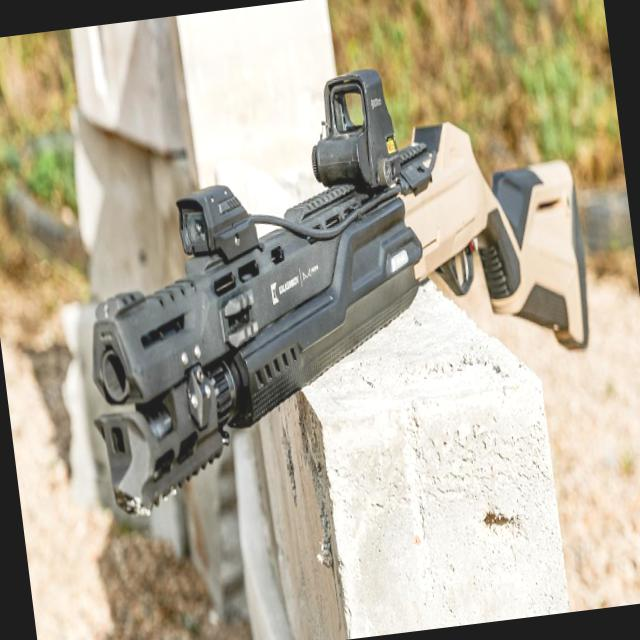long weapon: (58, 61, 620, 521)
